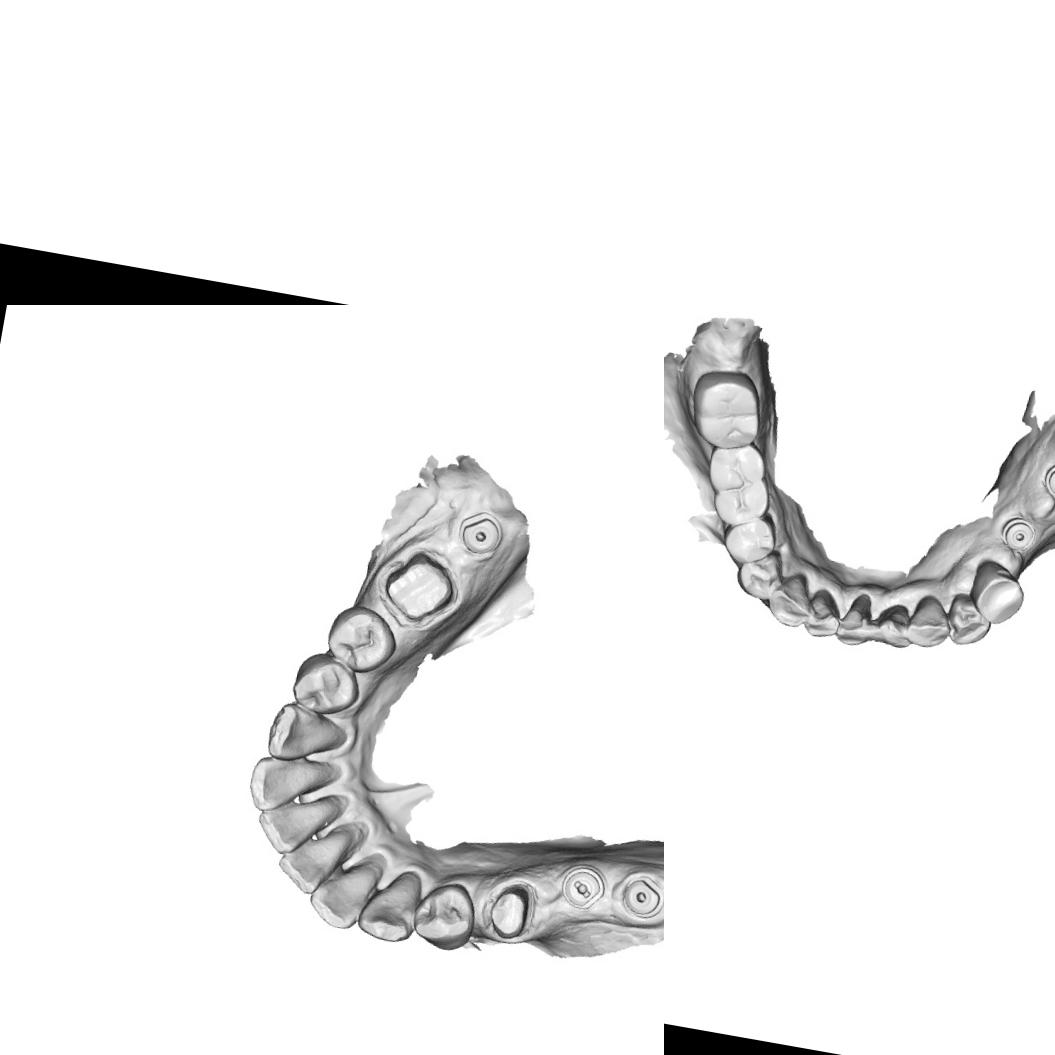canine: (264, 700, 350, 768), (356, 863, 426, 946), (902, 590, 956, 652), (764, 569, 815, 630)
crown: (375, 541, 460, 629), (475, 878, 546, 949)
implant: (618, 864, 664, 924), (455, 508, 504, 558), (996, 513, 1038, 556), (1039, 458, 1055, 501)
implant_minus: (559, 862, 605, 911)
incisor: (242, 750, 323, 820), (271, 824, 347, 898), (252, 792, 327, 860), (303, 861, 373, 931), (834, 590, 878, 650), (801, 584, 844, 642), (872, 598, 916, 650)
molar: (676, 363, 769, 455), (696, 435, 781, 532)
premolar: (409, 873, 481, 954), (324, 600, 396, 674), (963, 555, 1030, 630), (290, 654, 364, 719), (719, 507, 784, 570), (941, 588, 995, 650), (732, 545, 787, 604)
